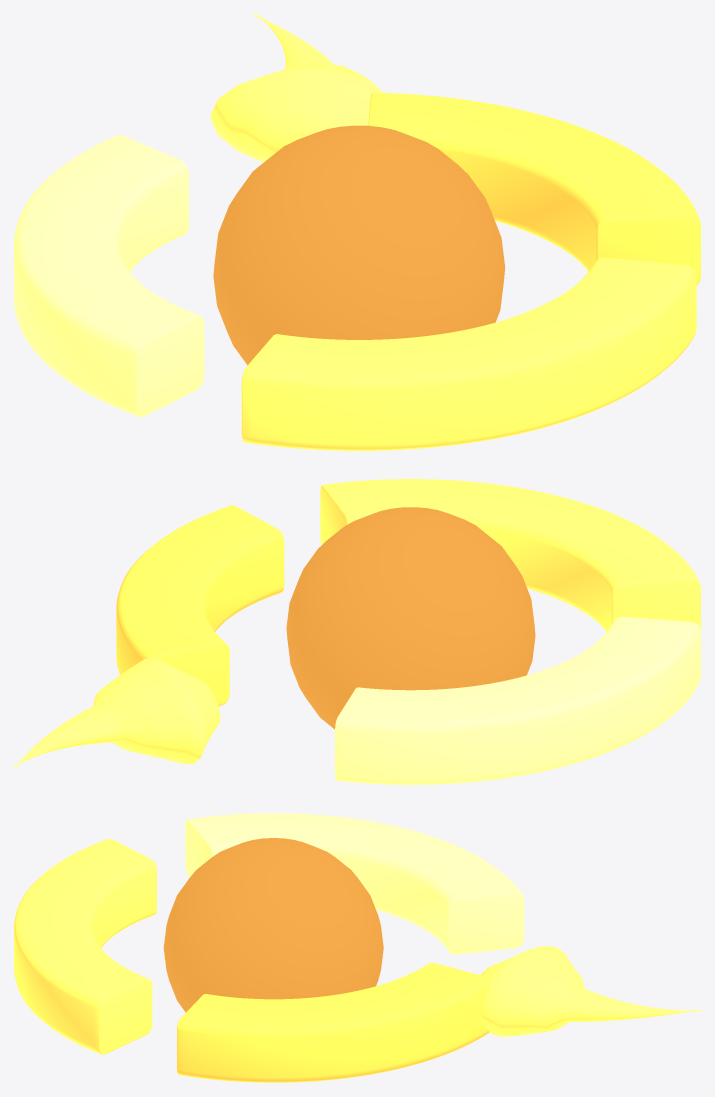
The model's file is tokember-core.glb.
3 renders of one model, top to bottom at view 1: azimuth 30°, elevation 25°; view 2: azimuth 150°, elevation 25°; view 3: azimuth 270°, elevation 25°, orthographic. The views are drawn at different scales.
Parts seen in each view (by area): view 1: RingSeg_Orange, InnerGlow, RingSeg_Gold, RingSeg_Hot, FlameTip; view 2: InnerGlow, RingSeg_Gold, RingSeg_Orange, RingSeg_Hot, FlameTip; view 3: InnerGlow, RingSeg_Hot, RingSeg_Orange, RingSeg_Gold, FlameTip.
Part boxes in pixels (left/top/right/bottom): RingSeg_Orange: left=241, top=257, right=696, bottom=450; InnerGlow: left=213, top=125, right=505, bottom=365; RingSeg_Gold: left=14, top=135, right=204, bottom=416; RingSeg_Hot: left=368, top=92, right=700, bottom=284; FlameTip: left=210, top=14, right=382, bottom=162; InnerGlow: left=286, top=507, right=535, bottom=729; RingSeg_Gold: left=335, top=616, right=700, bottom=784; RingSeg_Orange: left=320, top=479, right=700, bottom=631; RingSeg_Hot: left=116, top=505, right=284, bottom=706; FlameTip: left=14, top=657, right=220, bottom=767; InnerGlow: left=163, top=838, right=383, bottom=1012; RingSeg_Hot: left=177, top=963, right=491, bottom=1082; RingSeg_Orange: left=14, top=839, right=156, bottom=1054; RingSeg_Gold: left=185, top=813, right=524, bottom=954; FlameTip: left=480, top=946, right=700, bottom=1036.
Bounding box in the file's own units: 2.36 × 1 × 3.12.
